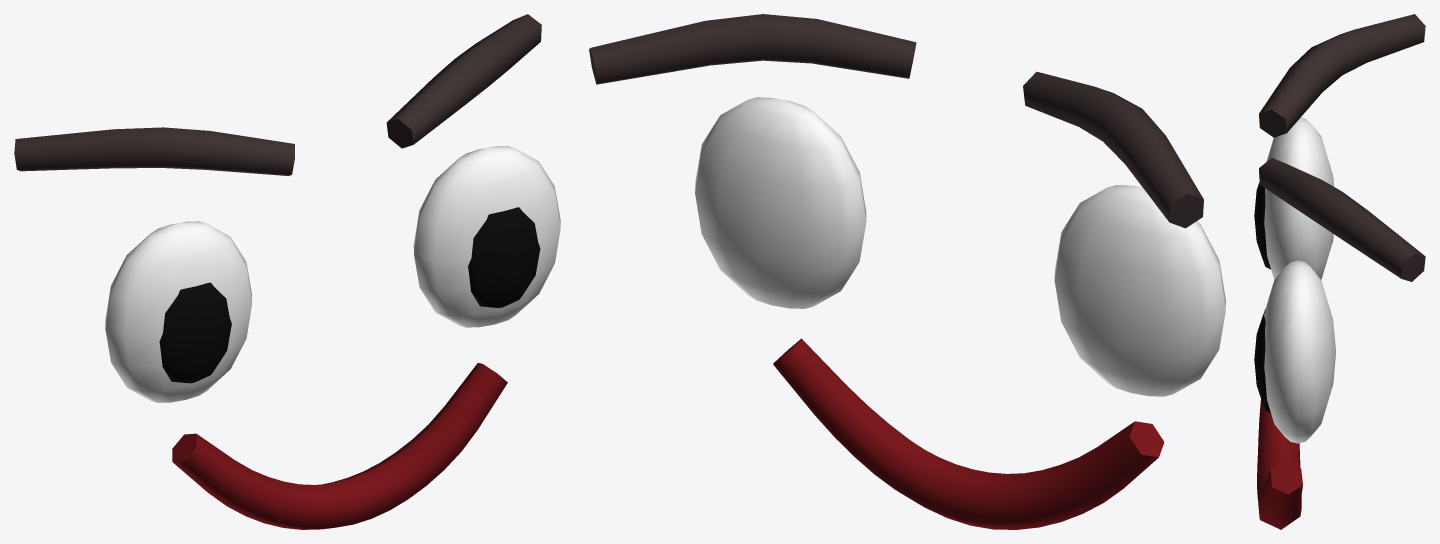
Rendered from gnome_face_1.obj.
The picture shows the model from 3 angles, left to right: view 1: azimuth 30°, elevation 25°; view 2: azimuth 150°, elevation 25°; view 3: azimuth 270°, elevation 25°; orthographic projection. The views are drawn at different scales.
Visible parts, largest first — view 1: part6, part0, part3, part5, part2, part4, part1; view 2: part0, part3, part6, part2, part5; view 3: part0, part5, part2, part3, part6, part1, part4.
Part boxes in pixels (left/top/right/bottom): part6: left=172, top=363, right=507, bottom=529; part0: left=413, top=146, right=560, bottom=327; part3: left=105, top=221, right=252, bottom=402; part5: left=14, top=127, right=294, bottom=175; part2: left=386, top=14, right=541, bottom=148; part4: left=159, top=282, right=231, bottom=383; part1: left=468, top=207, right=540, bottom=307; part0: left=695, top=97, right=866, bottom=308; part3: left=1054, top=185, right=1225, bottom=396; part6: left=773, top=338, right=1164, bottom=529; part2: left=589, top=14, right=916, bottom=84; part5: left=1023, top=71, right=1203, bottom=228; part0: left=1264, top=260, right=1335, bottom=443; part5: left=1259, top=14, right=1425, bottom=137; part2: left=1259, top=158, right=1425, bottom=281; part3: left=1264, top=117, right=1334, bottom=279; part6: left=1257, top=399, right=1302, bottom=529; part1: left=1254, top=309, right=1270, bottom=413; part4: left=1254, top=182, right=1270, bottom=269.
Bounding box in the file's own units: 0.1368 × 0.1038 × 0.0402.
